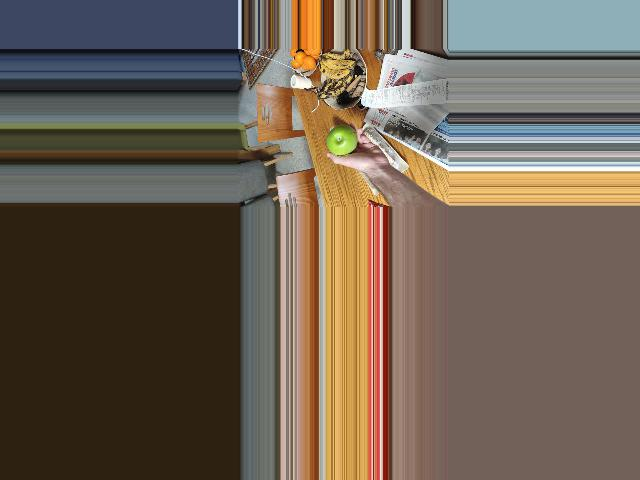apple: (319, 126, 363, 154)
